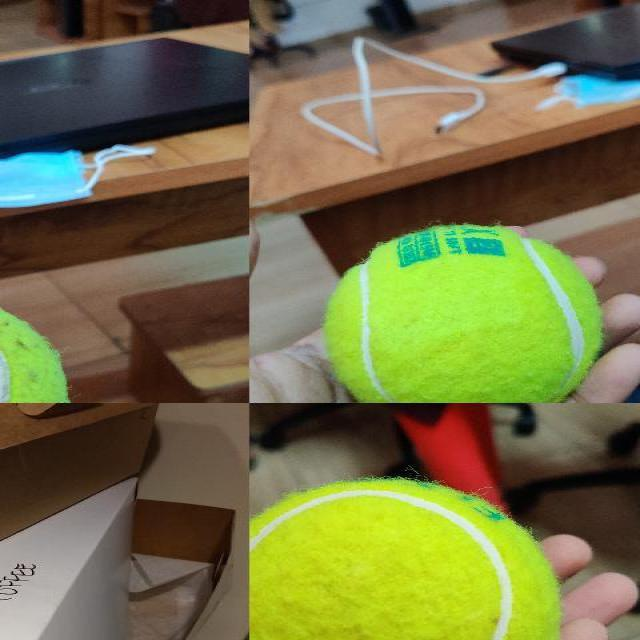tennis-ball: (249, 480, 559, 639), (327, 225, 603, 402)
